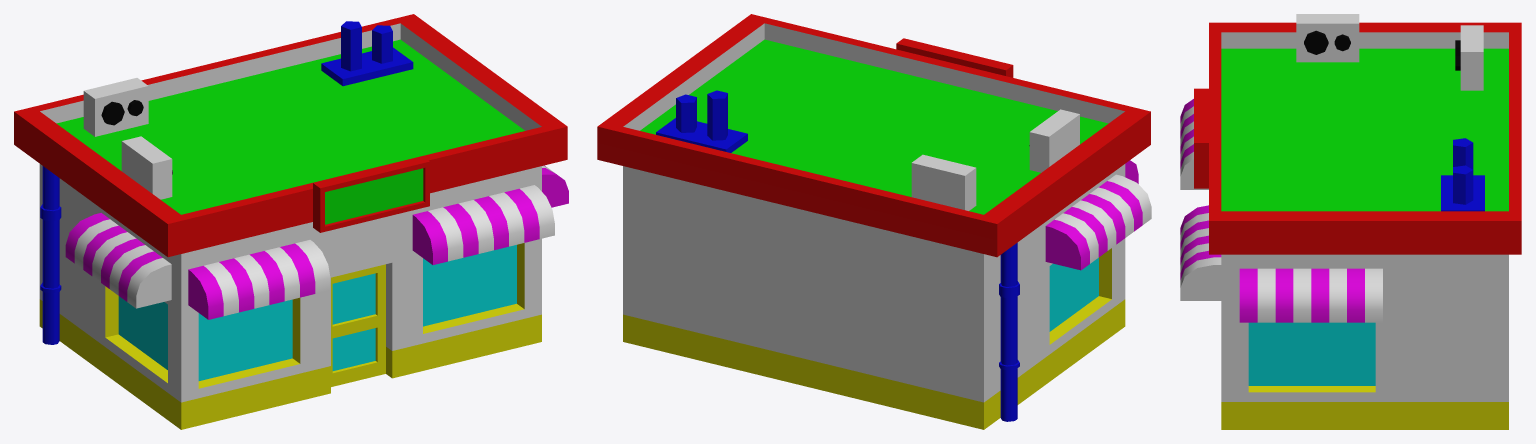
Rendered from CoffeeShop.fbx.
3 renders of one model, left to right at view 1: azimuth 30°, elevation 25°; view 2: azimuth 150°, elevation 25°; view 3: azimuth 270°, elevation 25°, orthographic.
Visible parts, largest first — view 1: CoffeeShop; view 2: CoffeeShop; view 3: CoffeeShop.
Part boxes in pixels (x1,y1,x2,y2): CoffeeShop: (14,14,568,429); CoffeeShop: (597,14,1151,429); CoffeeShop: (1180,14,1521,429).
Size of the model in its own units: 934 by 511 by 628.
